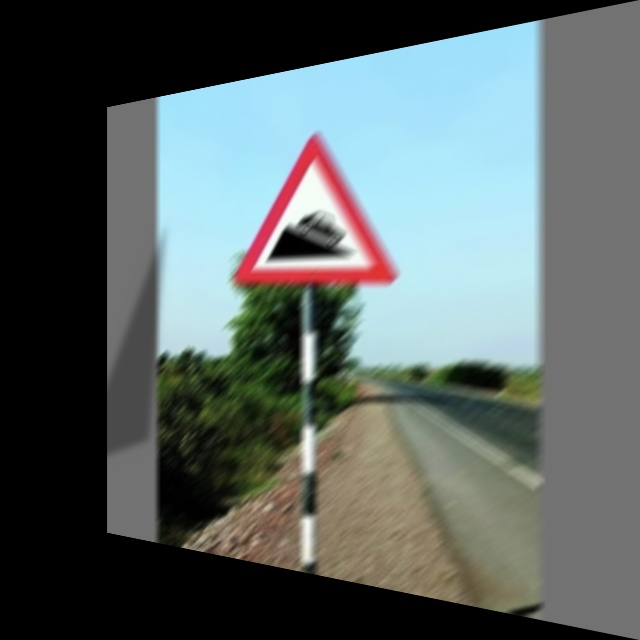Steep_Descent: (242, 120, 398, 286)
